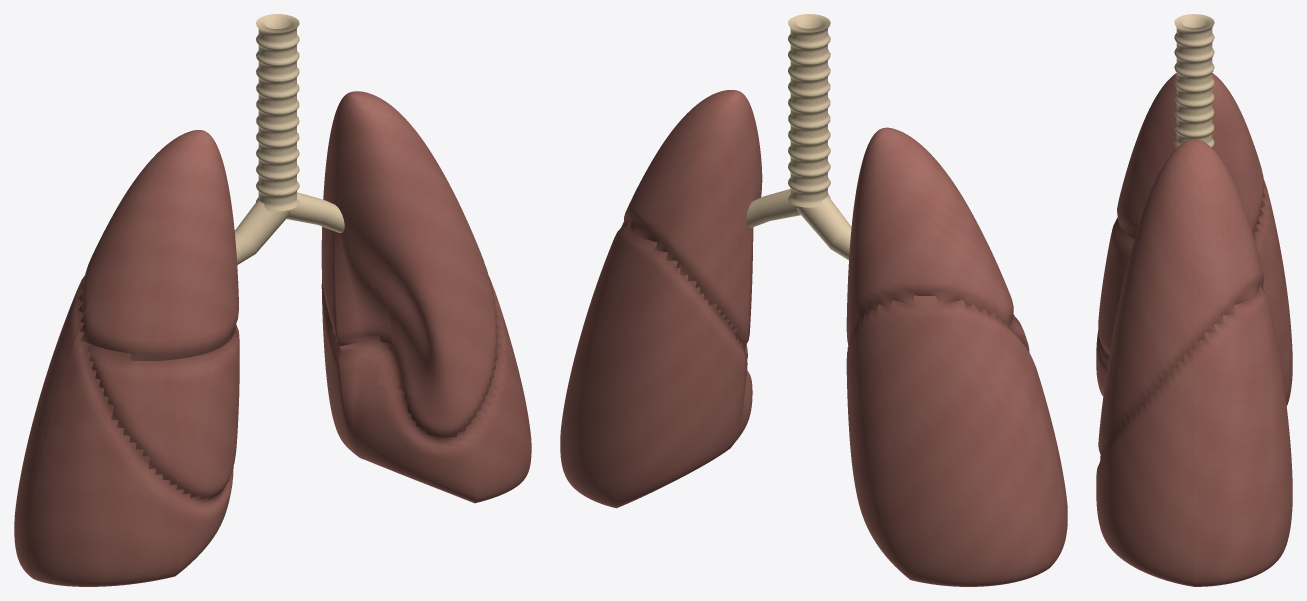
File: lab-lungs-ultra.glb
The picture shows the model from 3 angles, left to right: view 1: azimuth 30°, elevation 25°; view 2: azimuth 150°, elevation 25°; view 3: azimuth 270°, elevation 25°; orthographic projection. The views are drawn at different scales.
Visible parts, largest first — view 1: part-left-lung-upper, part-right-lung-lower, part-right-lung-upper, part-left-lung-lower, part-right-lung-middle, part-notch, part-trachea, part-bronchi; view 2: part-right-lung-lower, part-left-lung-lower, part-right-lung-upper, part-left-lung-upper, part-trachea, part-bronchi; view 3: part-left-lung-lower, part-left-lung-upper, part-right-lung-upper, part-trachea, part-right-lung-lower, part-right-lung-middle, part-notch.
Boxes of the visible parts, x1,y1,x2,y2 form: part-left-lung-upper: (321,91,498,436); part-right-lung-lower: (14,275,233,586); part-right-lung-upper: (78,130,238,360); part-left-lung-lower: (321,274,531,503); part-right-lung-middle: (87,324,239,499); part-notch: (370,282,473,406); part-trachea: (256,14,299,211); part-bronchi: (234,192,344,264); part-right-lung-lower: (846,295,1067,586); part-left-lung-lower: (560,223,752,508); part-right-lung-upper: (846,127,1013,345); part-left-lung-upper: (621,90,762,358); part-trachea: (788,14,830,207); part-bronchi: (746,189,851,260); part-left-lung-lower: (1096,286,1292,586); part-left-lung-upper: (1098,139,1263,454); part-right-lung-upper: (1117,73,1265,239); part-trachea: (1174,14,1214,147); part-right-lung-lower: (1096,178,1292,405); part-right-lung-middle: (1098,218,1134,354); part-notch: (1100,328,1117,429).
Bounding box in the file's own units: 22.98 × 22.25 × 8.62.
